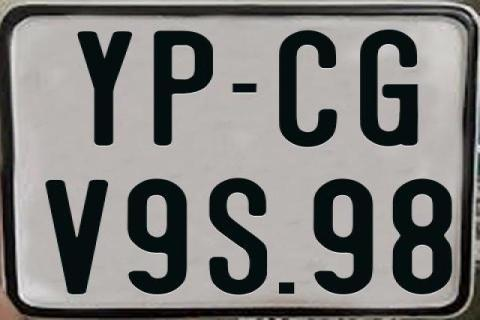0: (313, 178, 377, 298), (392, 176, 456, 294), (124, 178, 186, 298)
C: (279, 29, 343, 147)
G: (357, 30, 420, 148)
P: (154, 28, 214, 147)
S: (207, 177, 267, 293)
V: (45, 178, 108, 292)
Y: (77, 29, 135, 143)
